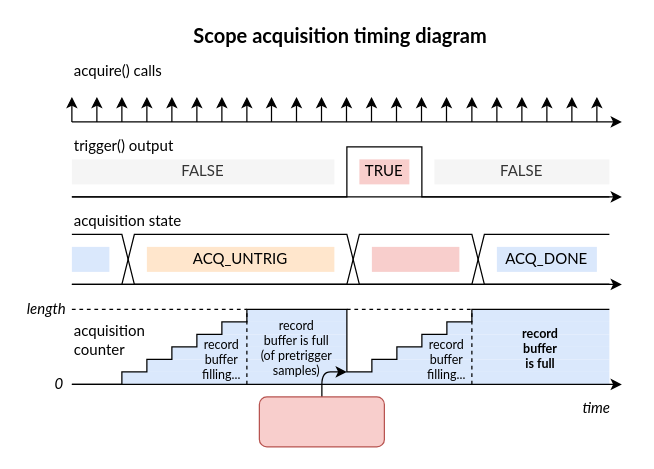
Image size: 654x469. Some labels were removed from this diagram. Each missing label, with the centre of its shape:
"ACQ_TRIG" belongs at point (415, 258).
"keep only the last nb_pretrig samples" belongs at point (321, 421).
